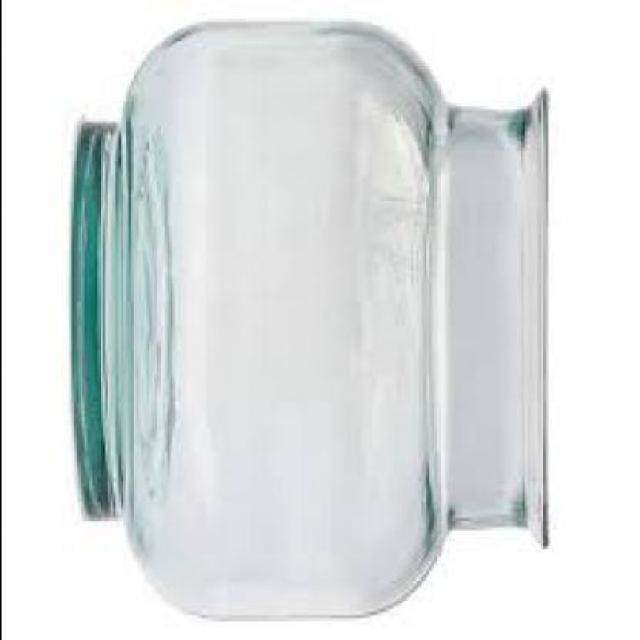GLASS: (72, 21, 550, 612)
